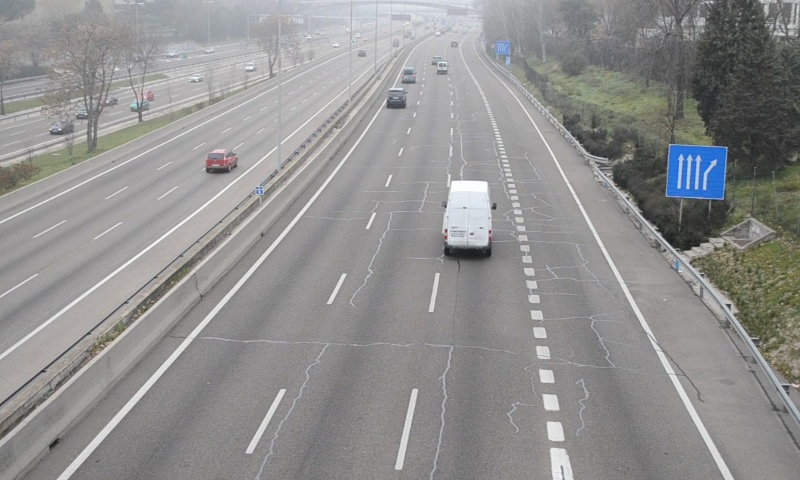car: (387, 88, 406, 107)
van: (442, 180, 492, 255), (400, 65, 415, 84)
